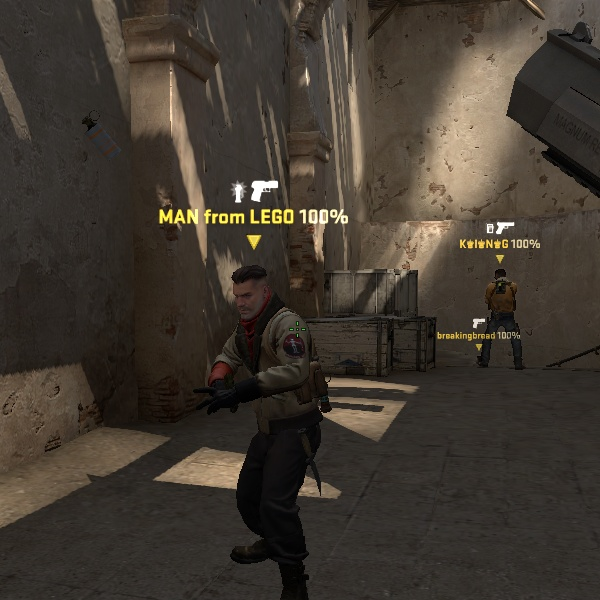t_body: (202, 264, 331, 596), (479, 267, 526, 370)
t_head: (230, 265, 269, 318), (495, 268, 506, 283)
